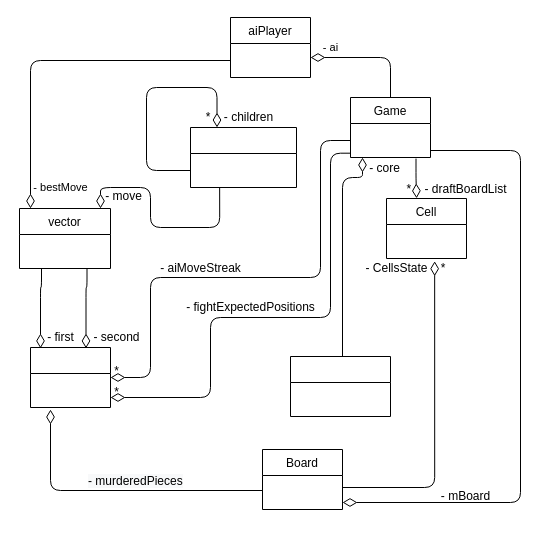
The diagram is 552 pixels wide and 534 high, and some of its shapes have lost their labels. Here are the shapes that lost their labels. From the top down, the centre of each, then its label:
the point at 243,157: DecisionTree
the point at 70,377: position
the point at 340,386: mainActivity
